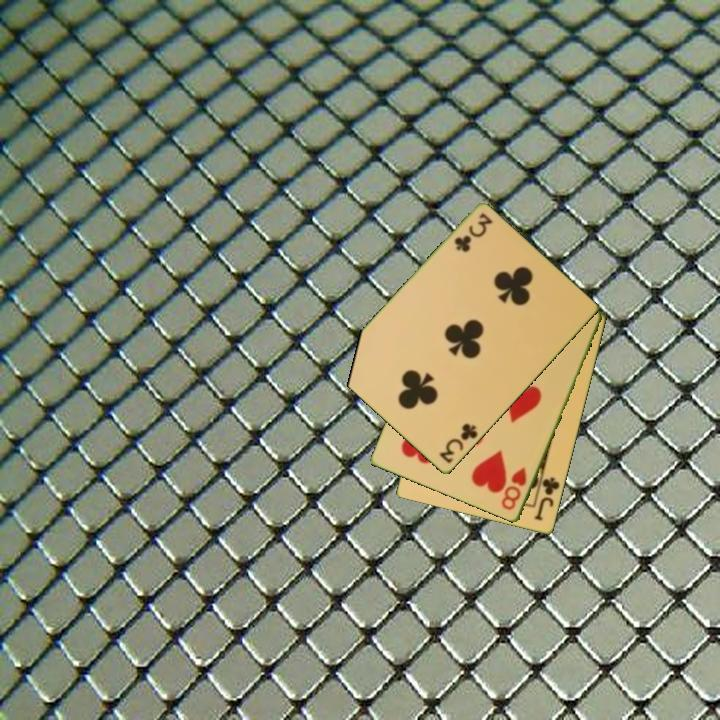3c: (435, 420, 481, 467), (450, 210, 495, 255)
8h: (498, 464, 530, 513)
Jc: (531, 474, 563, 524)
